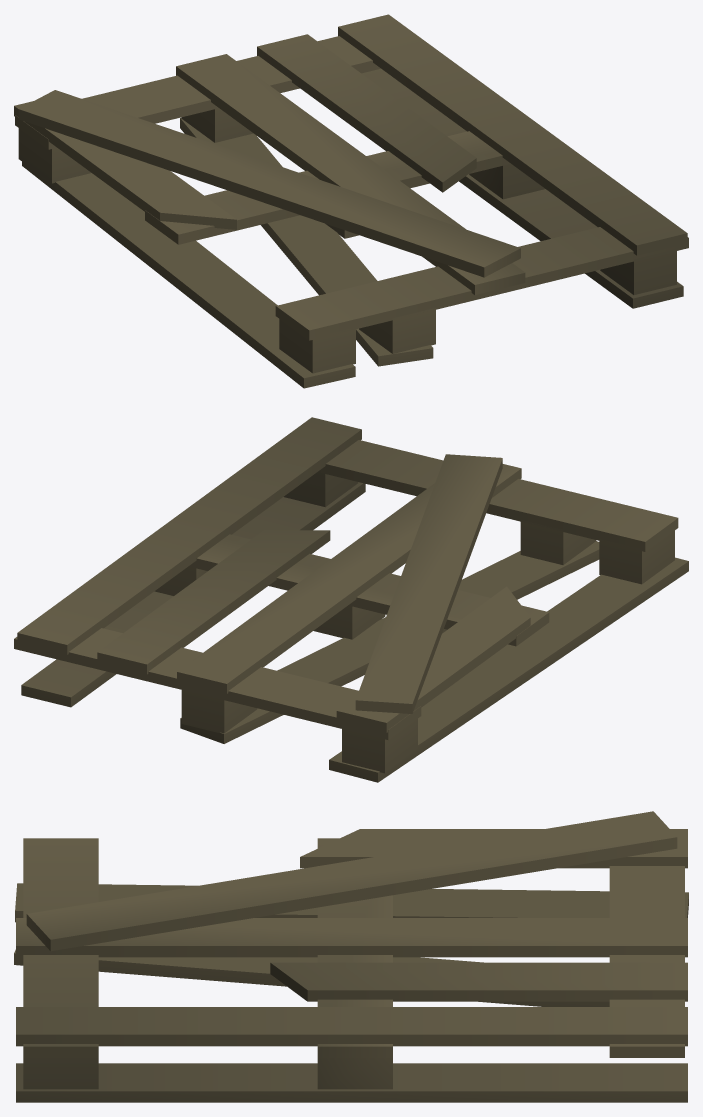
The model's file is ct_pallet.glb.
3 views of the same model, one above another, from view 1: azimuth 30°, elevation 25°; view 2: azimuth 150°, elevation 25°; view 3: azimuth 270°, elevation 25° (orthographic). The views are drawn at different scales.
Parts seen in each view (by area): view 1: ct_pallet; view 2: ct_pallet; view 3: ct_pallet.
Boxes of the visible parts, bbox=[...] form: ct_pallet: bbox=[14, 14, 688, 388]; ct_pallet: bbox=[14, 417, 688, 782]; ct_pallet: bbox=[14, 811, 688, 1102].
Size of the model in its own units: 1.01 by 0.1804 by 1.34.
